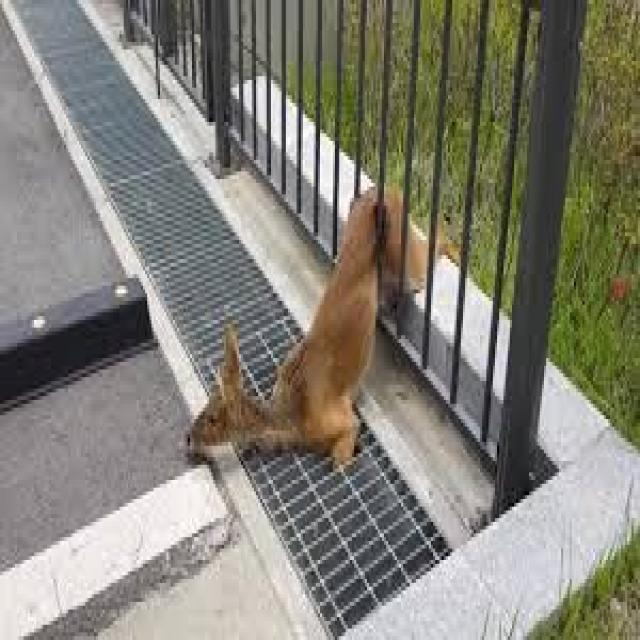elk: (177, 119, 460, 496)
